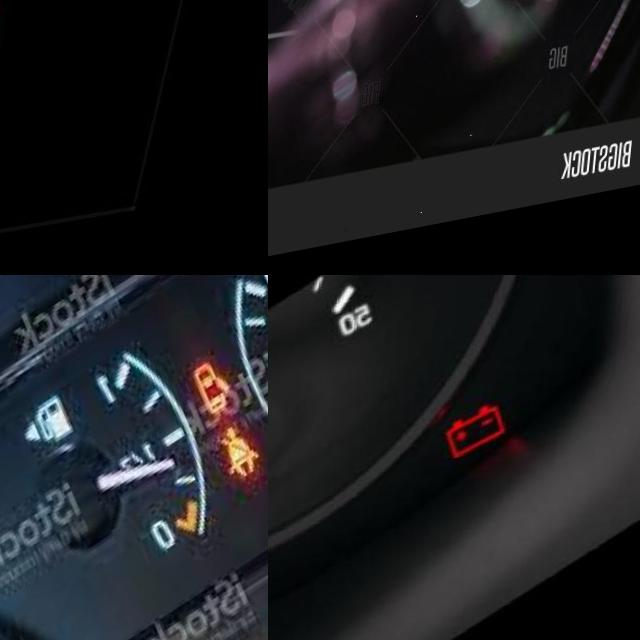Seat Belt: (220, 428, 268, 499)
